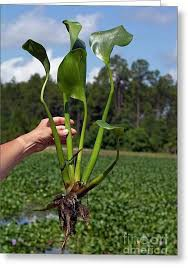water_hyacinth: (21, 18, 133, 181)
